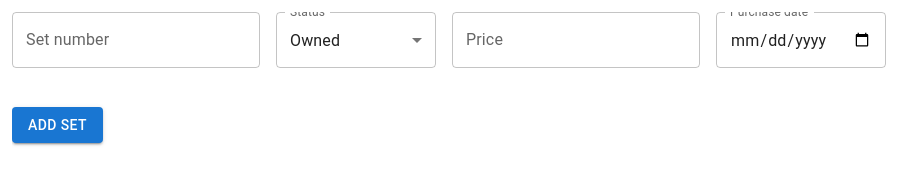
Test: AddSetToCollectionForm › requires a set number
Click the button "Add set" at [57, 125], box [12,107,103,143]
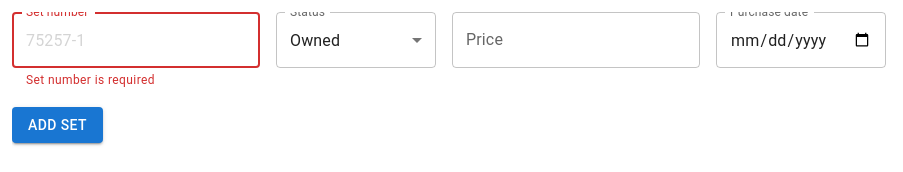
Now the text "Set number is required" is shown, box [26,73,155,87]
